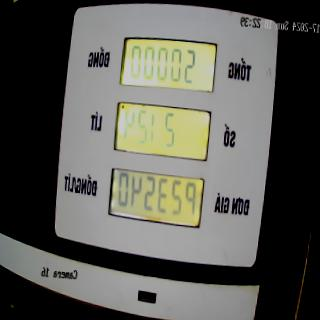screen: (105, 29, 218, 233)
